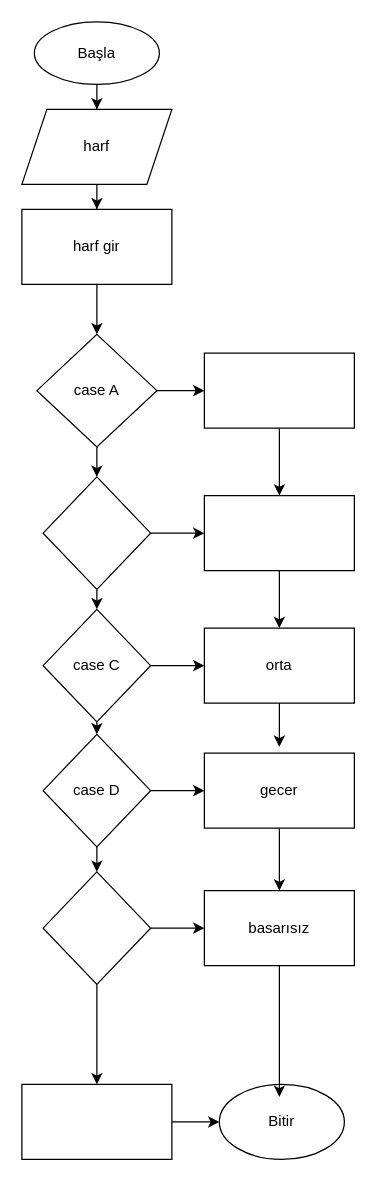
This 376x1181 diagram has some shape labels left out. Each missing label, with the centre of its shape:
case B: point 96,532
case F: point 96,927
cok iyi: point 278,532
gecerli bir harf gir: point 96,1121
mukemmel: point 278,390
